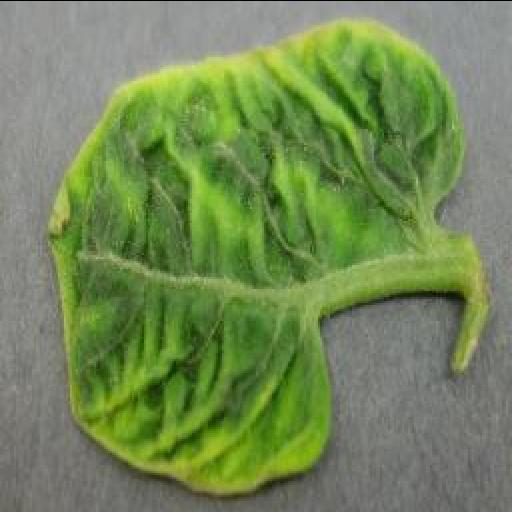disease_tomato: (47, 18, 465, 496)
